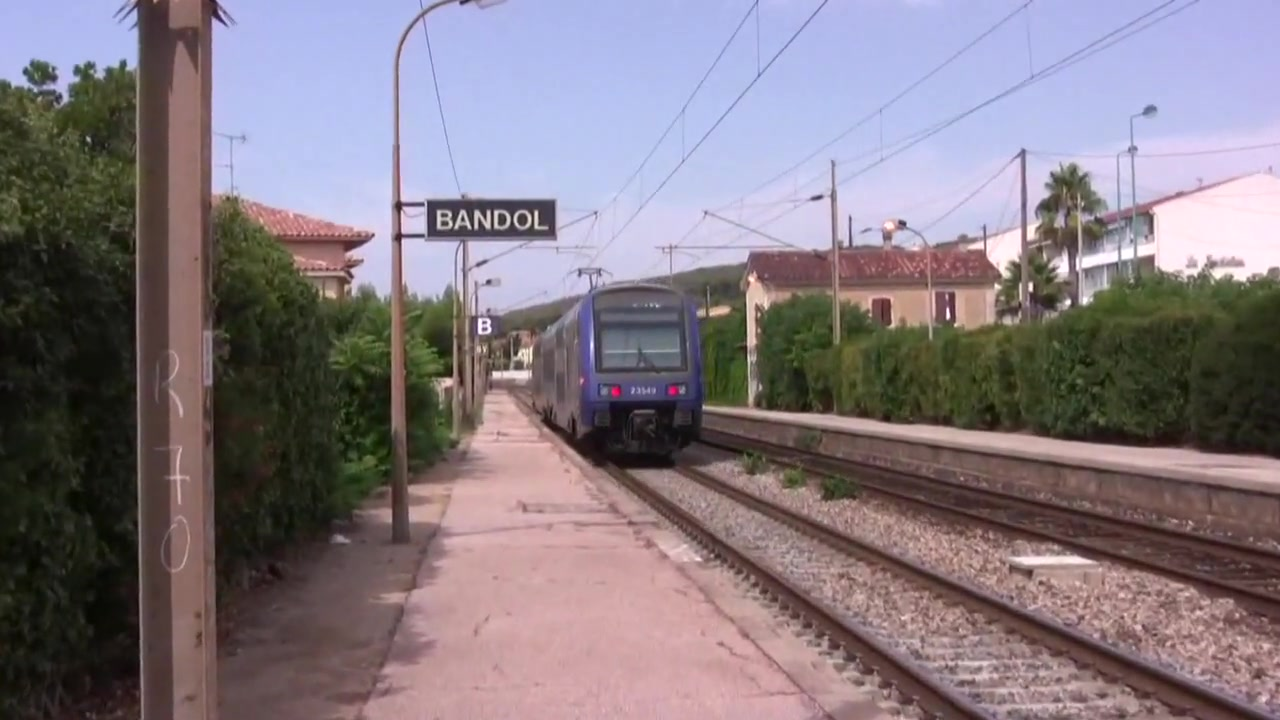train: (527, 286, 708, 458)
